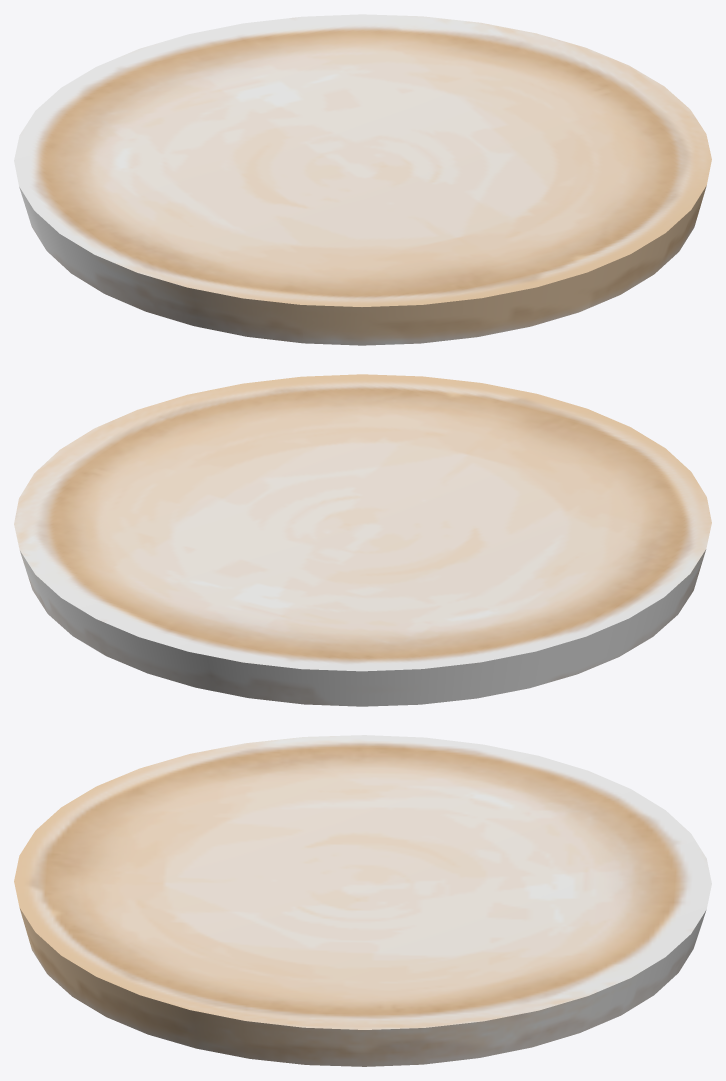
File: SM_Potion_Props_Plate_01.fbx
3 views of the same model, one above another, from view 1: azimuth 30°, elevation 25°; view 2: azimuth 150°, elevation 25°; view 3: azimuth 270°, elevation 25° (orthographic).
Visible parts, largest first — view 1: SM_Potion_Props_Plate_01_LOD0; view 2: SM_Potion_Props_Plate_01_LOD0; view 3: SM_Potion_Props_Plate_01_LOD0.
Part boxes in pixels (x1,y1,x2,y2): SM_Potion_Props_Plate_01_LOD0: [14, 14, 711, 345]; SM_Potion_Props_Plate_01_LOD0: [14, 374, 711, 706]; SM_Potion_Props_Plate_01_LOD0: [14, 735, 711, 1066].
Size of what is drawn, in the model's own units: 26.95 by 1.88 by 26.95.
